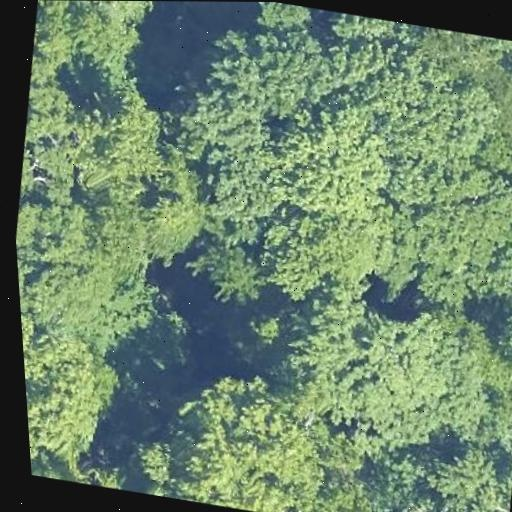tree-top: (263, 286, 485, 443), (333, 289, 512, 455), (162, 372, 345, 512), (194, 1, 358, 131), (164, 85, 287, 239), (391, 166, 512, 317), (260, 89, 399, 220), (258, 195, 404, 318), (378, 84, 500, 212), (22, 327, 131, 466), (17, 245, 153, 356), (57, 82, 171, 205), (27, 0, 161, 82), (10, 60, 81, 204), (404, 434, 512, 512), (134, 181, 219, 268), (338, 438, 432, 512), (30, 449, 150, 493), (198, 244, 271, 307), (324, 10, 433, 50), (448, 31, 512, 96), (482, 75, 512, 168), (485, 295, 512, 392), (245, 2, 318, 34), (241, 303, 287, 349)
